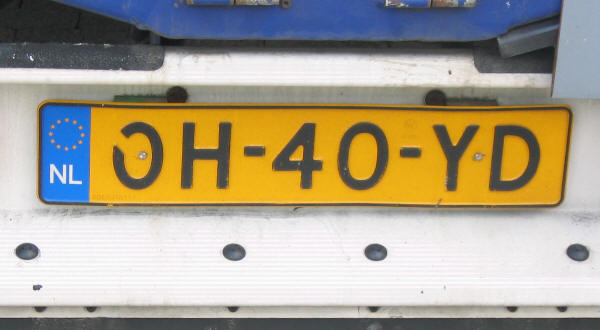license_plate: (36, 100, 573, 212)
